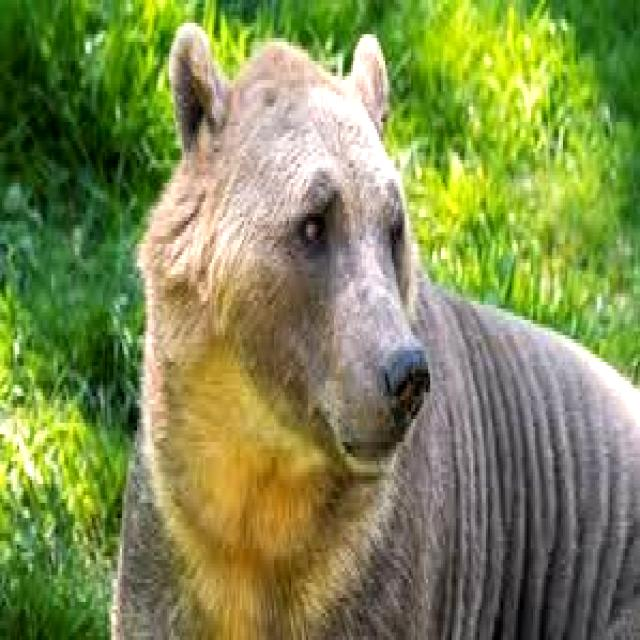bear: (153, 11, 640, 640)
